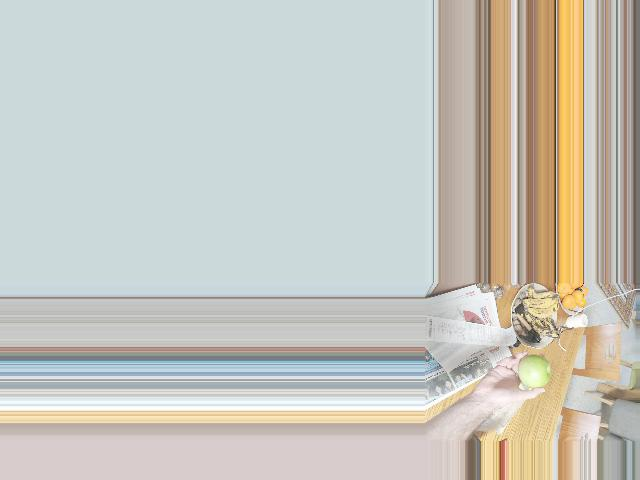apple: (513, 357, 551, 393)
